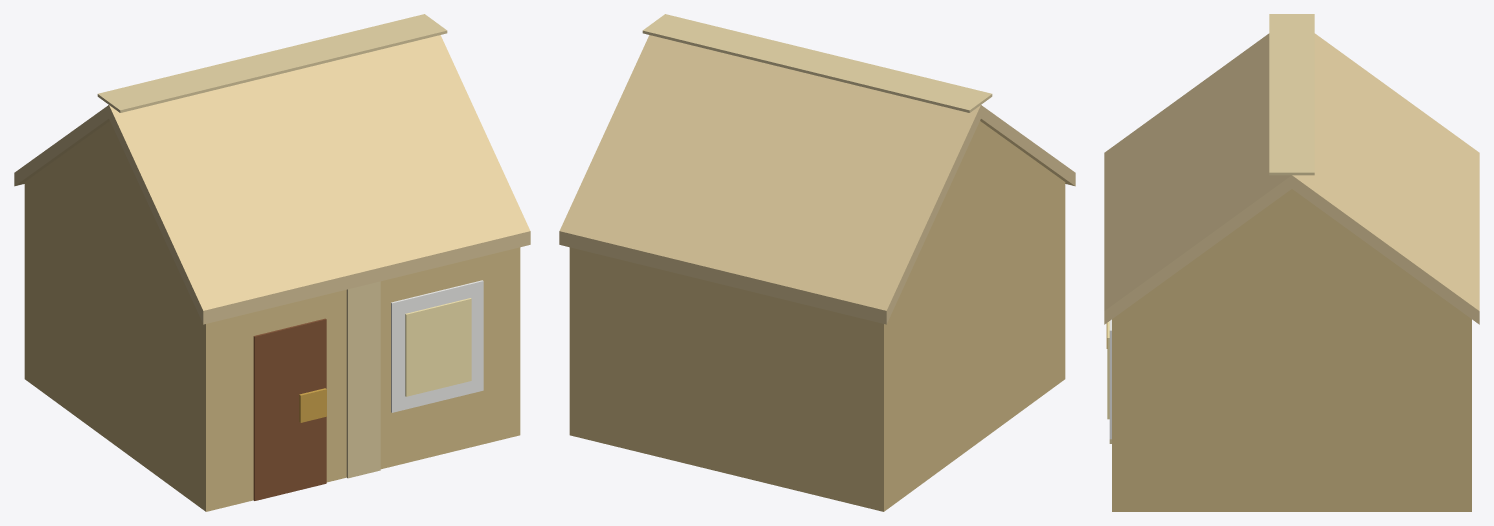
Rendered from rental_student.glb.
The picture shows the model from 3 angles, left to right: view 1: azimuth 30°, elevation 25°; view 2: azimuth 150°, elevation 25°; view 3: azimuth 270°, elevation 25°; orthographic projection.
Parts seen in each view (by area): view 1: rental_student_Body; view 2: rental_student_Body; view 3: rental_student_Body.
Part boxes in pixels (<box>): rental_student_Body: <box>14,14,530,511</box>; rental_student_Body: <box>559,14,1075,511</box>; rental_student_Body: <box>1104,14,1479,511</box>.
Size of the model in its own units: 0.5 by 0.504 by 0.5.
